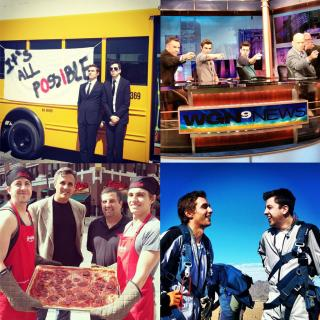Pizza: (22, 265, 120, 308)
